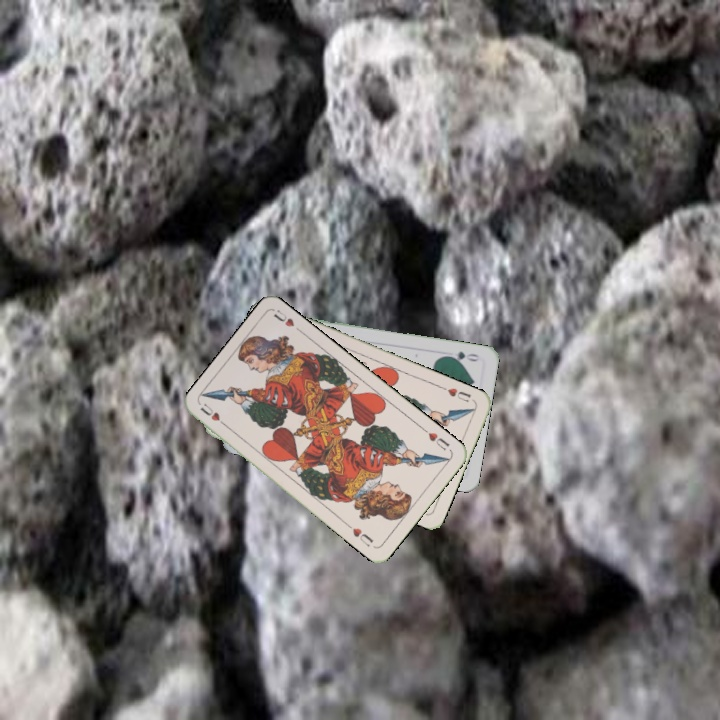GO: (442, 347, 483, 364)
HU: (196, 399, 231, 431), (419, 424, 452, 453), (438, 383, 473, 404)
